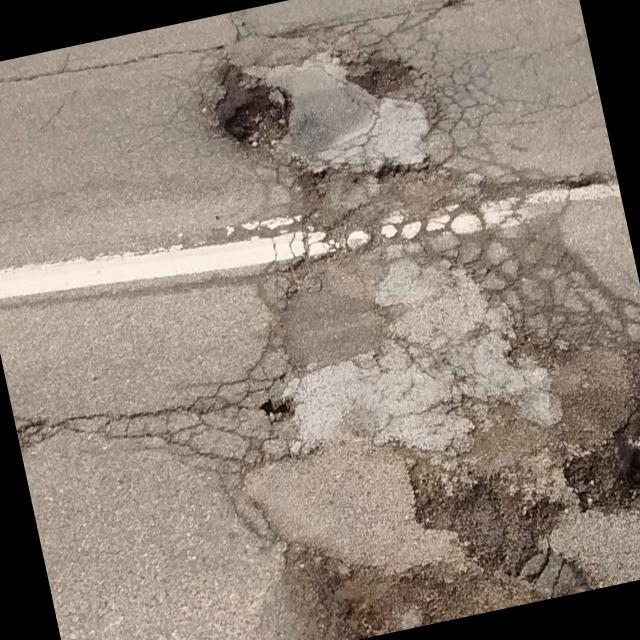Pothole: (400, 416, 572, 594), (550, 388, 640, 554), (206, 42, 306, 174), (293, 553, 409, 640), (344, 29, 424, 112), (369, 142, 442, 196), (253, 382, 300, 436)
